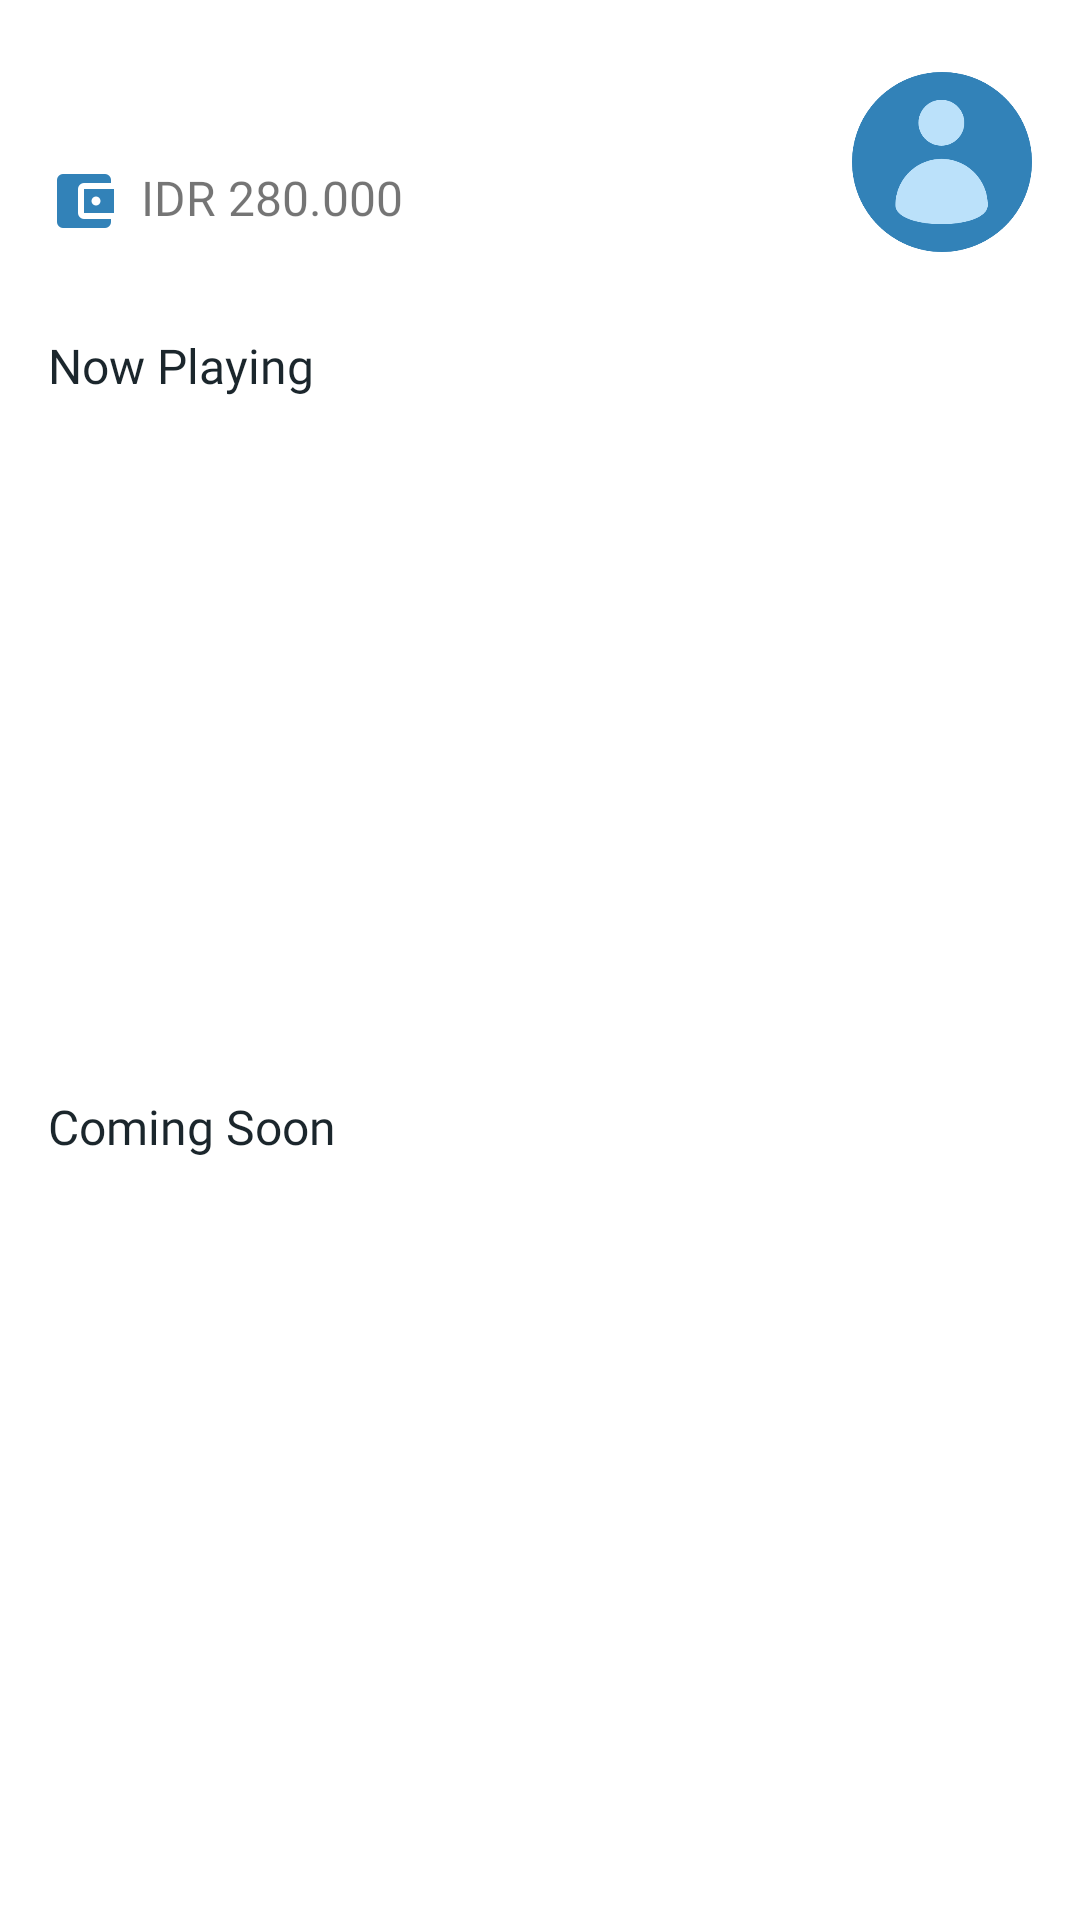

Screen size 1080w x 1920h. Icon name, then its center in pixels as [x,y]:
profile: [942,162]
